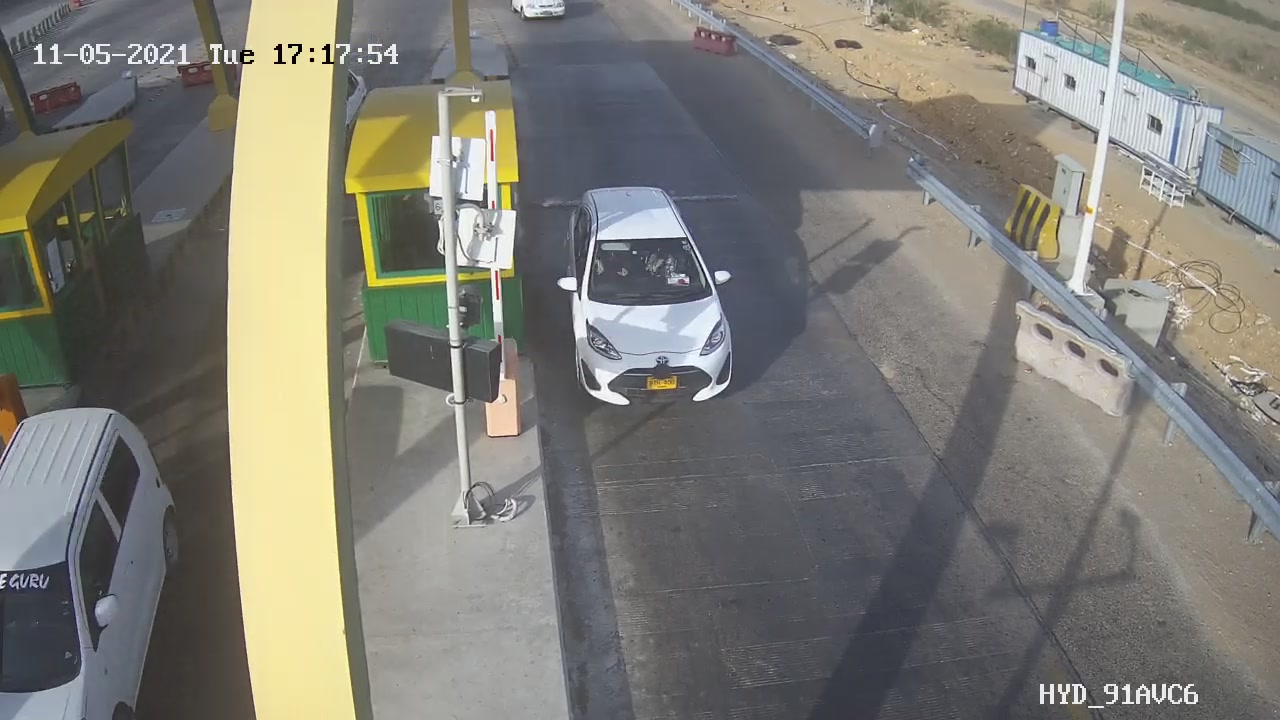F1: (539, 169, 752, 424)
